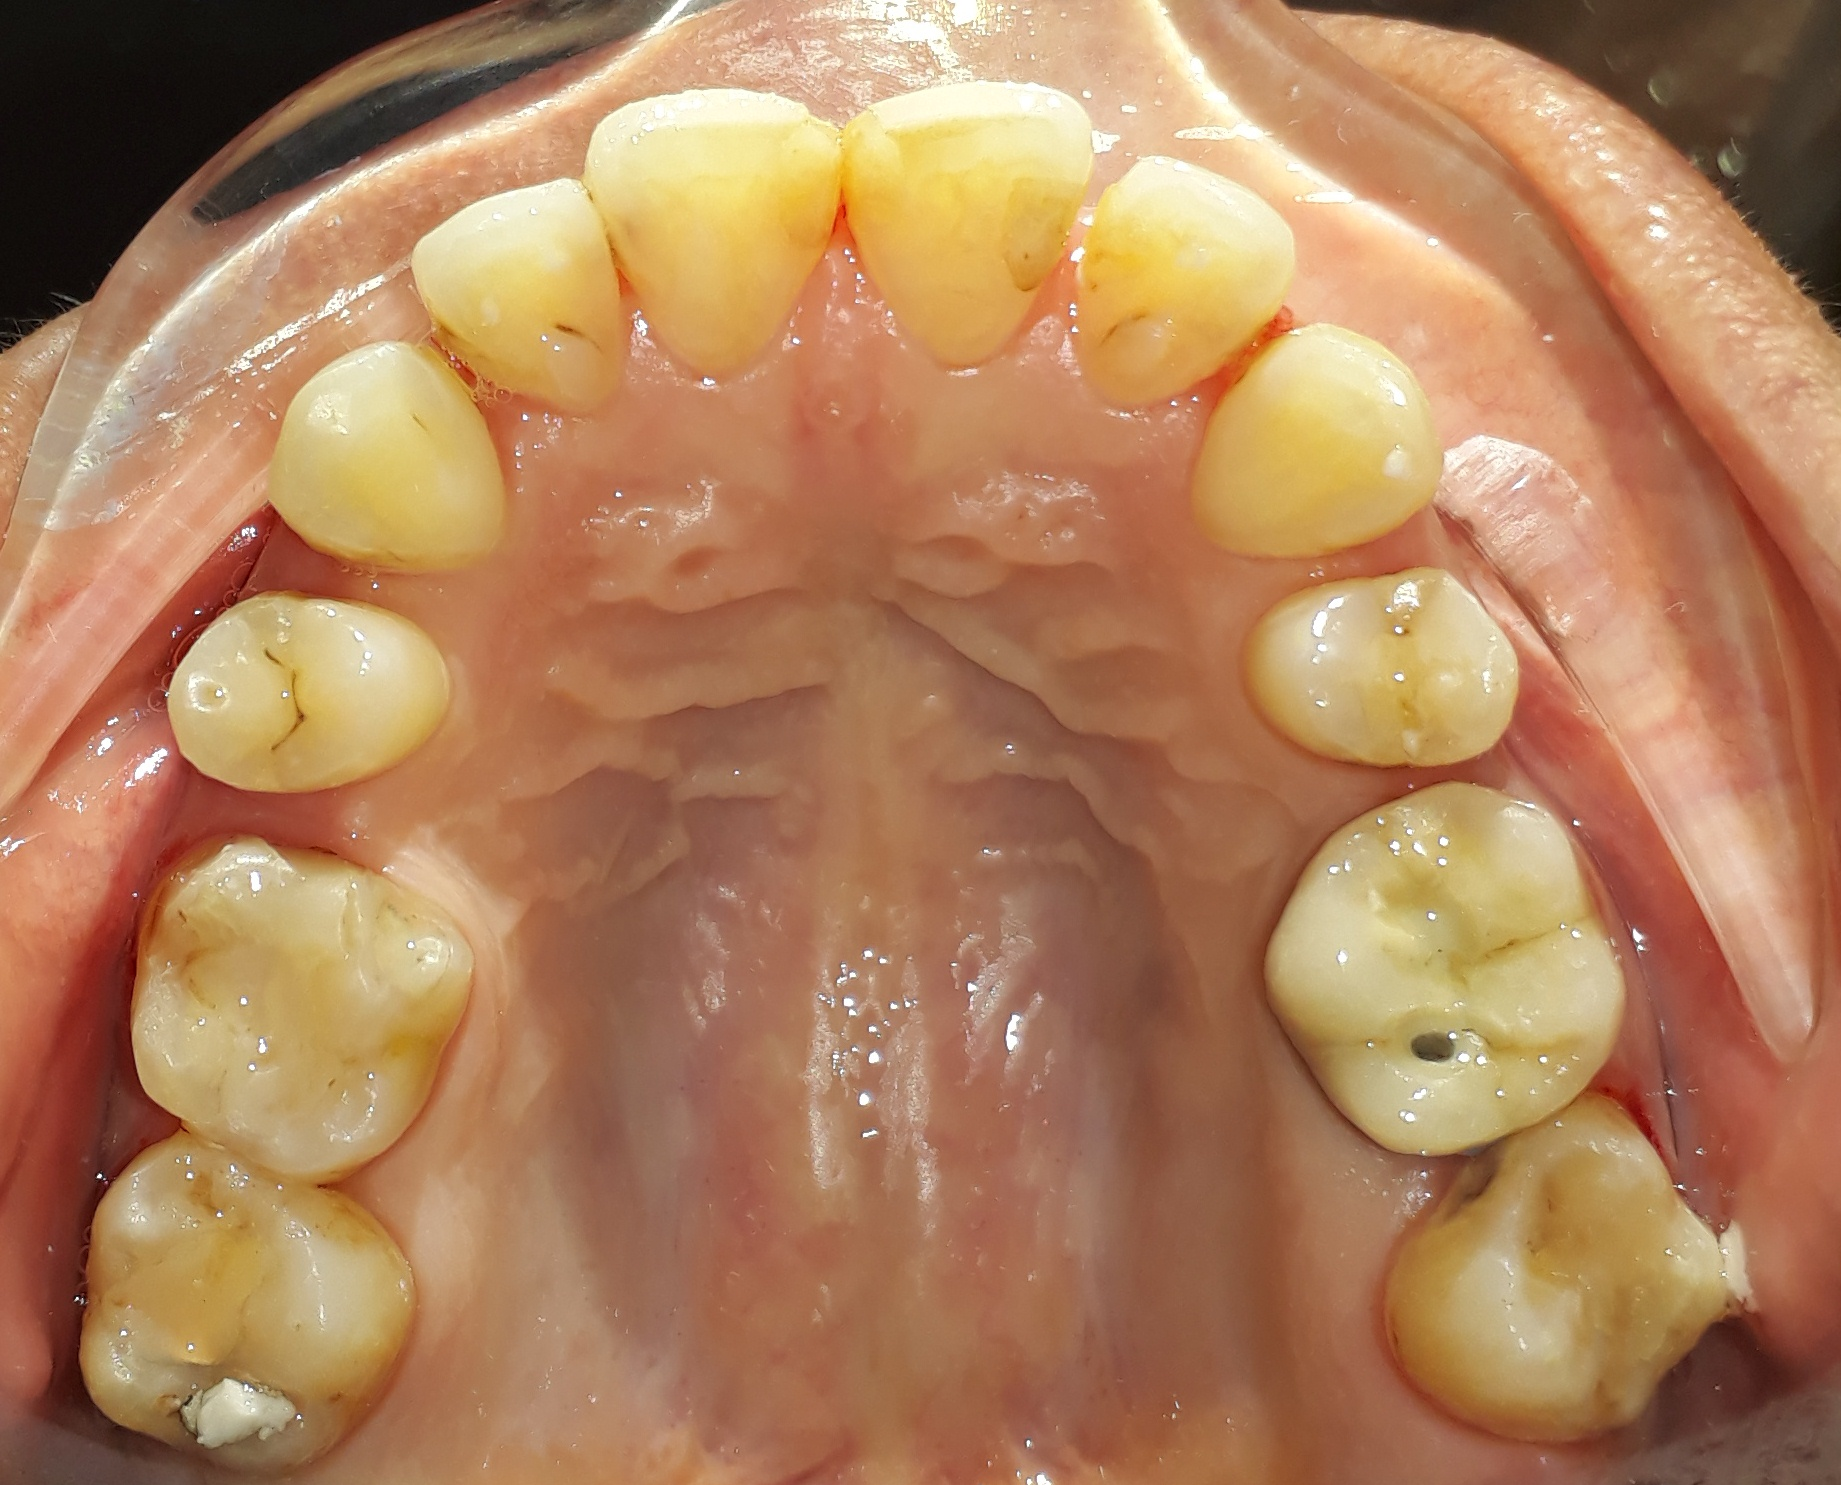1st Molar: (1376, 1108, 1746, 1432), (85, 1150, 420, 1474)
1st Premolar: (167, 580, 467, 799), (1235, 561, 1520, 774)
2nd Premolar: (1258, 777, 1621, 1152), (123, 827, 464, 1170)
Canine: (1189, 320, 1449, 561), (267, 336, 526, 570)
Central Incisor: (589, 83, 841, 389), (845, 76, 1083, 380)
Lateral Incisor: (1070, 148, 1299, 406), (409, 176, 632, 414)
